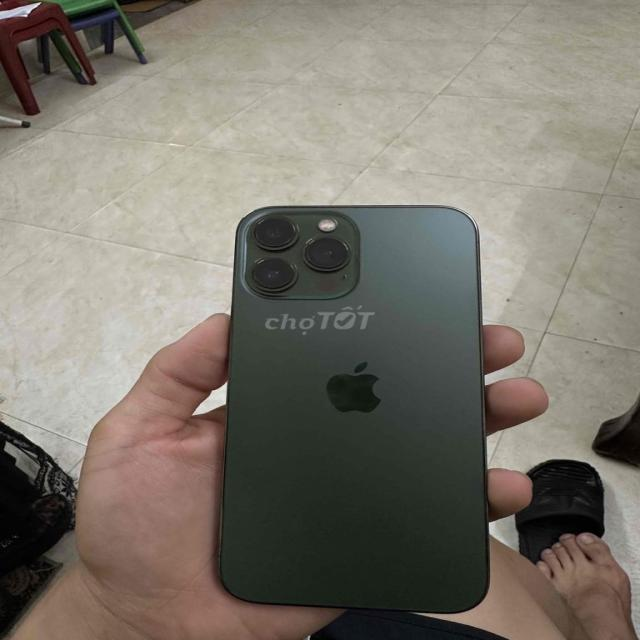gen_12_13: (208, 203, 491, 627)
